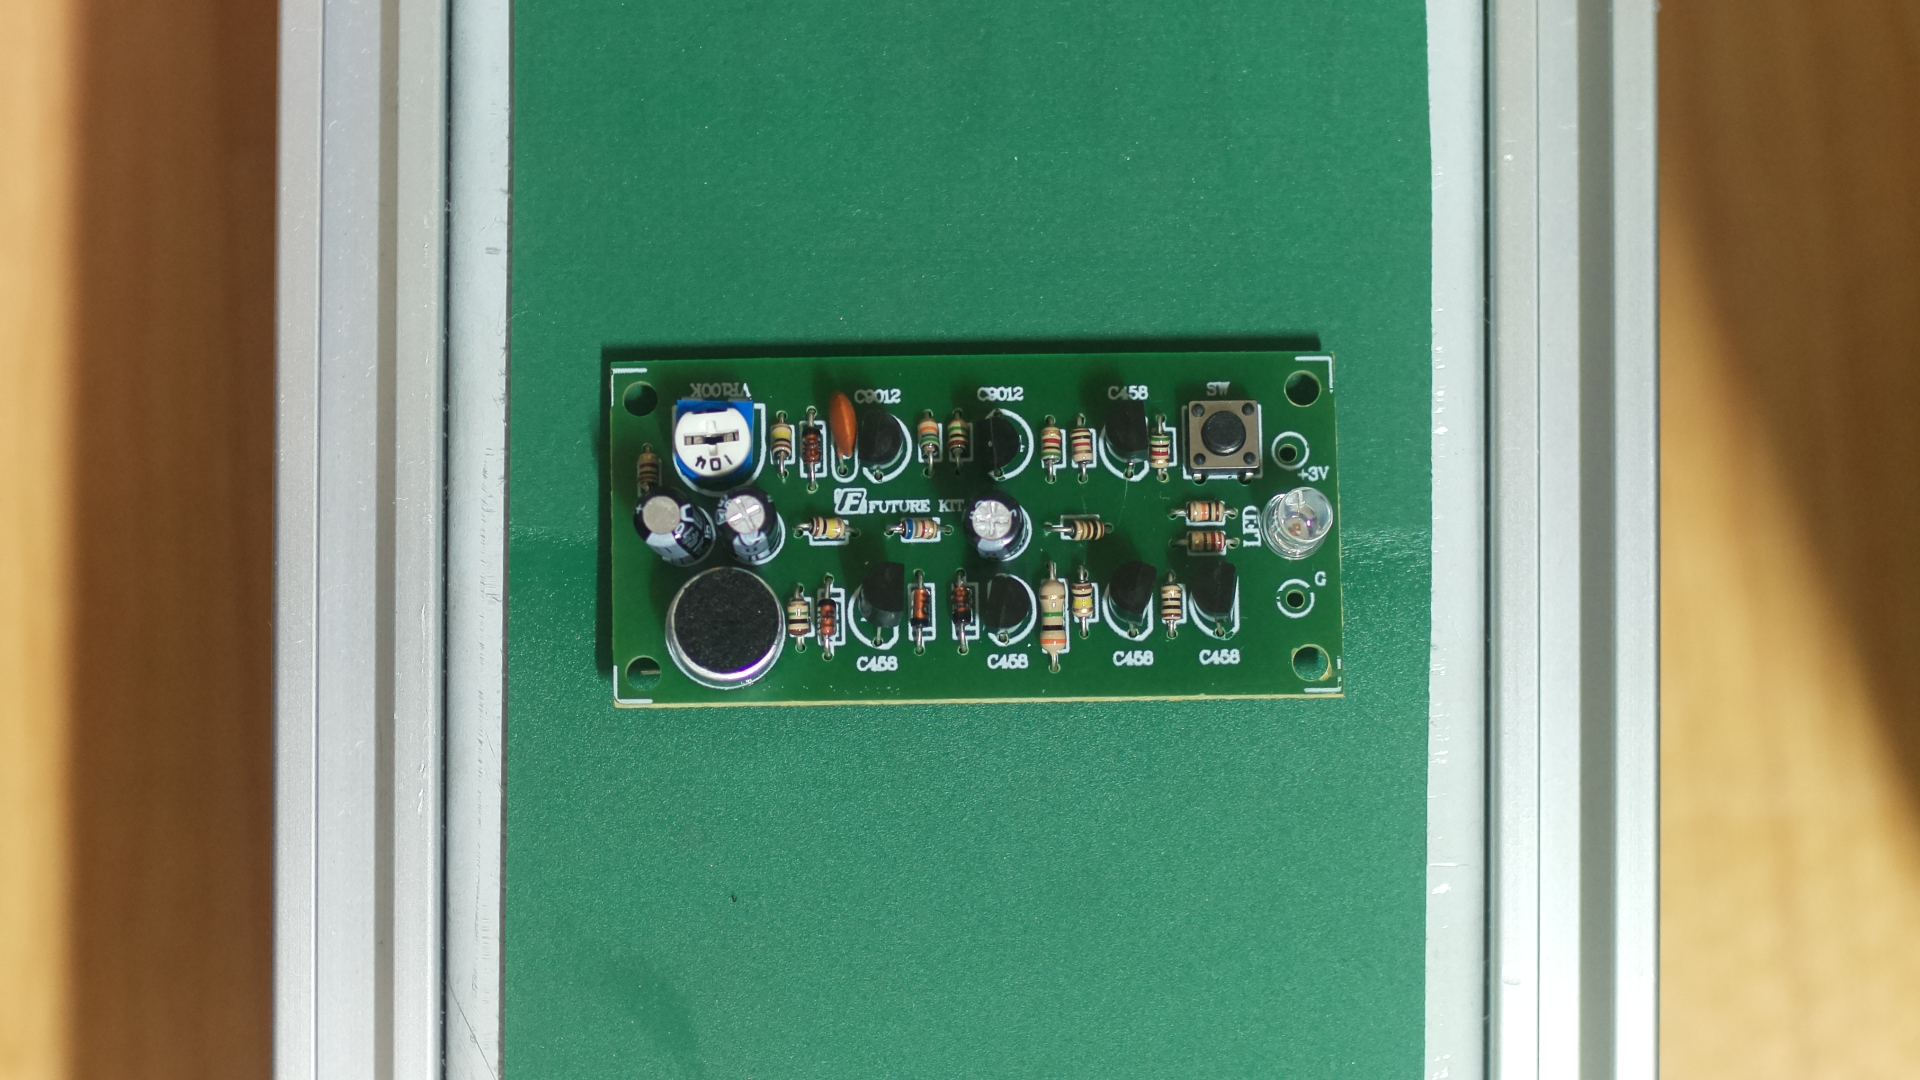A_Normal: (608, 360, 1350, 702)
